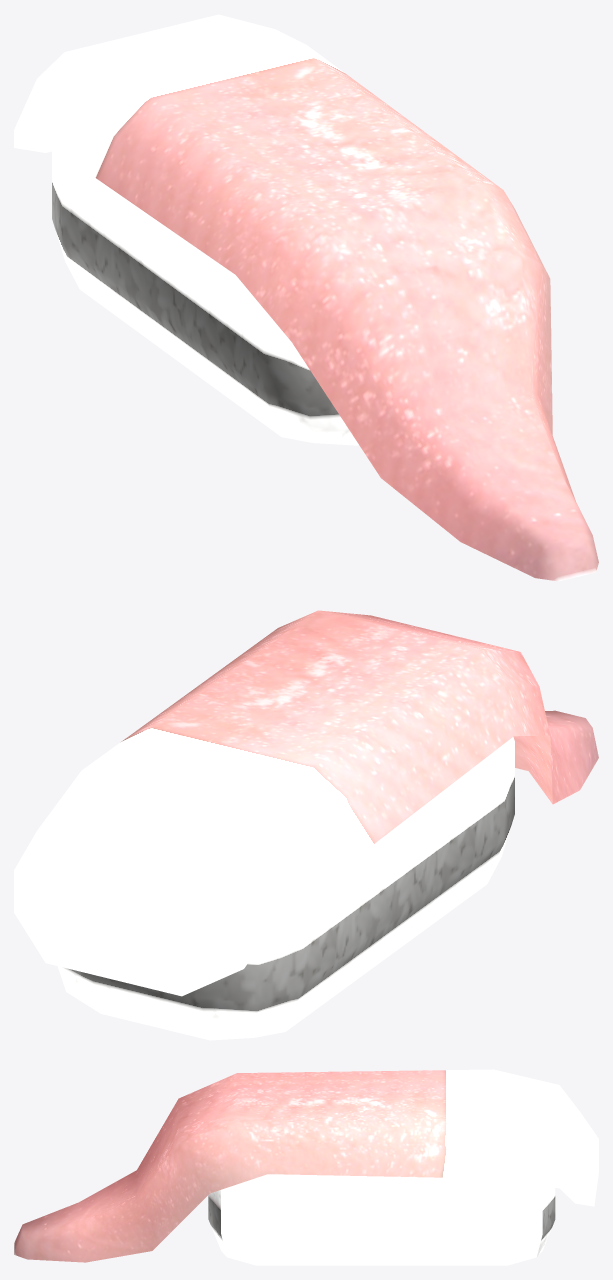
The model's file is SM_Flathead_01.fbx.
3 views of the same model, one above another, from view 1: azimuth 30°, elevation 25°; view 2: azimuth 150°, elevation 25°; view 3: azimuth 270°, elevation 25° (orthographic). The views are drawn at different scales.
Parts seen in each view (by area): view 1: SM_Flathead_01_LOD0; view 2: SM_Flathead_01_LOD0; view 3: SM_Flathead_01_LOD0.
Boxes of the visible parts, x1=… form: SM_Flathead_01_LOD0: x1=14, y1=14, x2=598, y2=581; SM_Flathead_01_LOD0: x1=14, y1=610, x2=598, y2=1040; SM_Flathead_01_LOD0: x1=14, y1=1069, x2=598, y2=1265.
Bounding box in the file's own units: 3.48 × 10.12 × 2.97.
